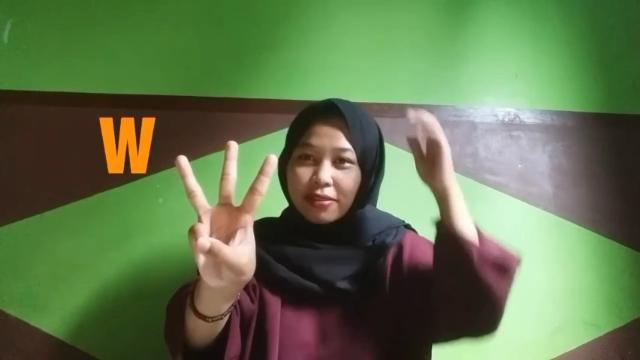W: (174, 139, 278, 294)
